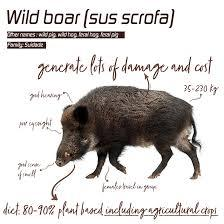wildboar: (51, 83, 205, 182)
